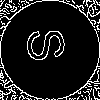S: (25, 25, 75, 64)
